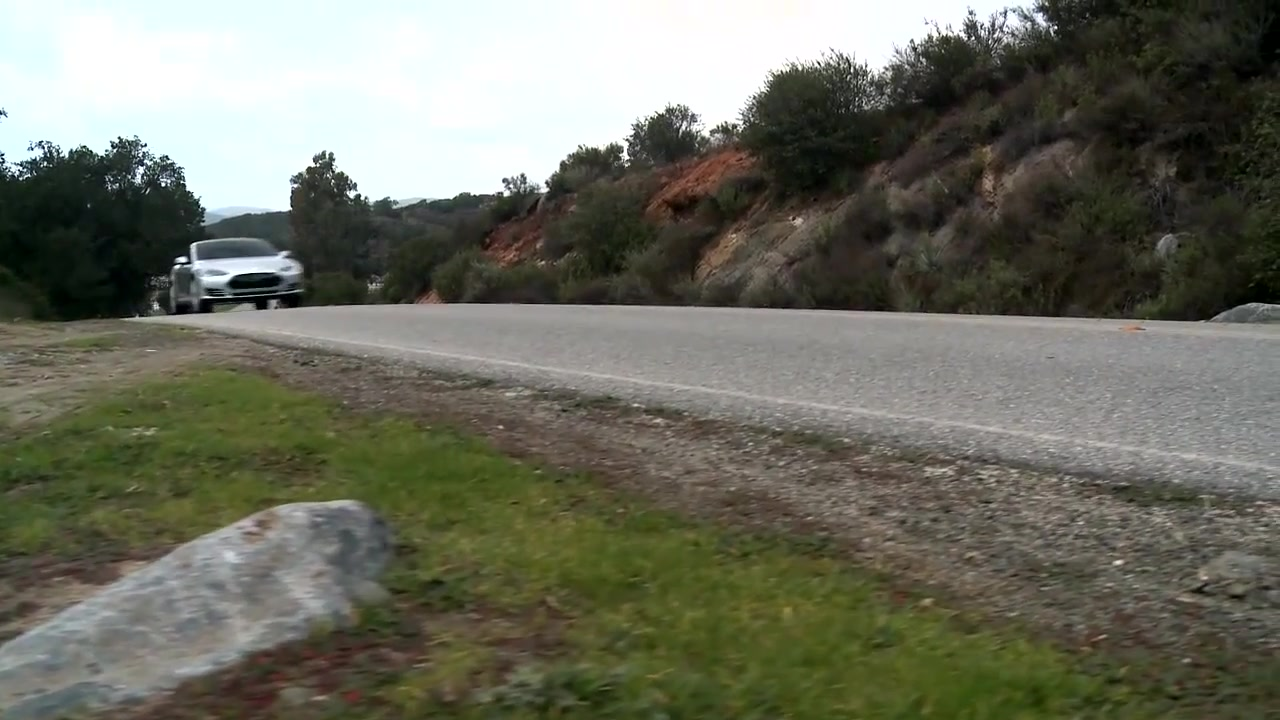car: (168, 235, 309, 314)
